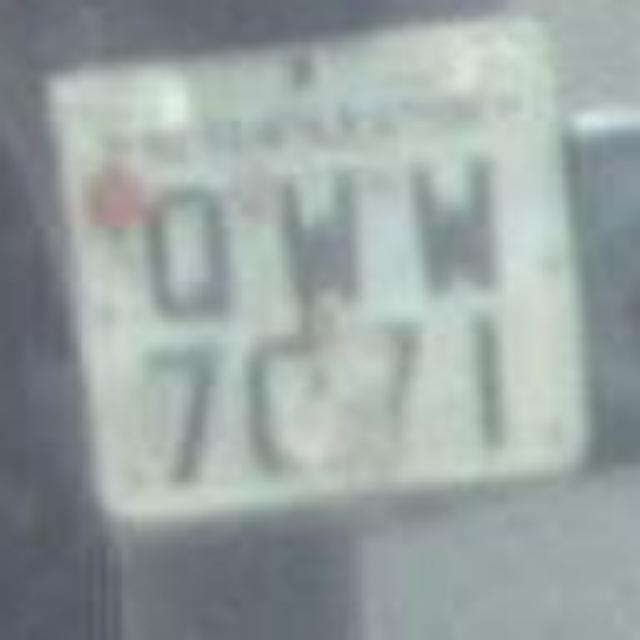1: (445, 304, 520, 451)
2: (216, 316, 349, 489)
3: (316, 304, 436, 471)
7: (112, 316, 236, 504), (332, 315, 436, 460)
O: (128, 164, 252, 331)
W: (400, 140, 508, 305), (269, 156, 376, 312)
